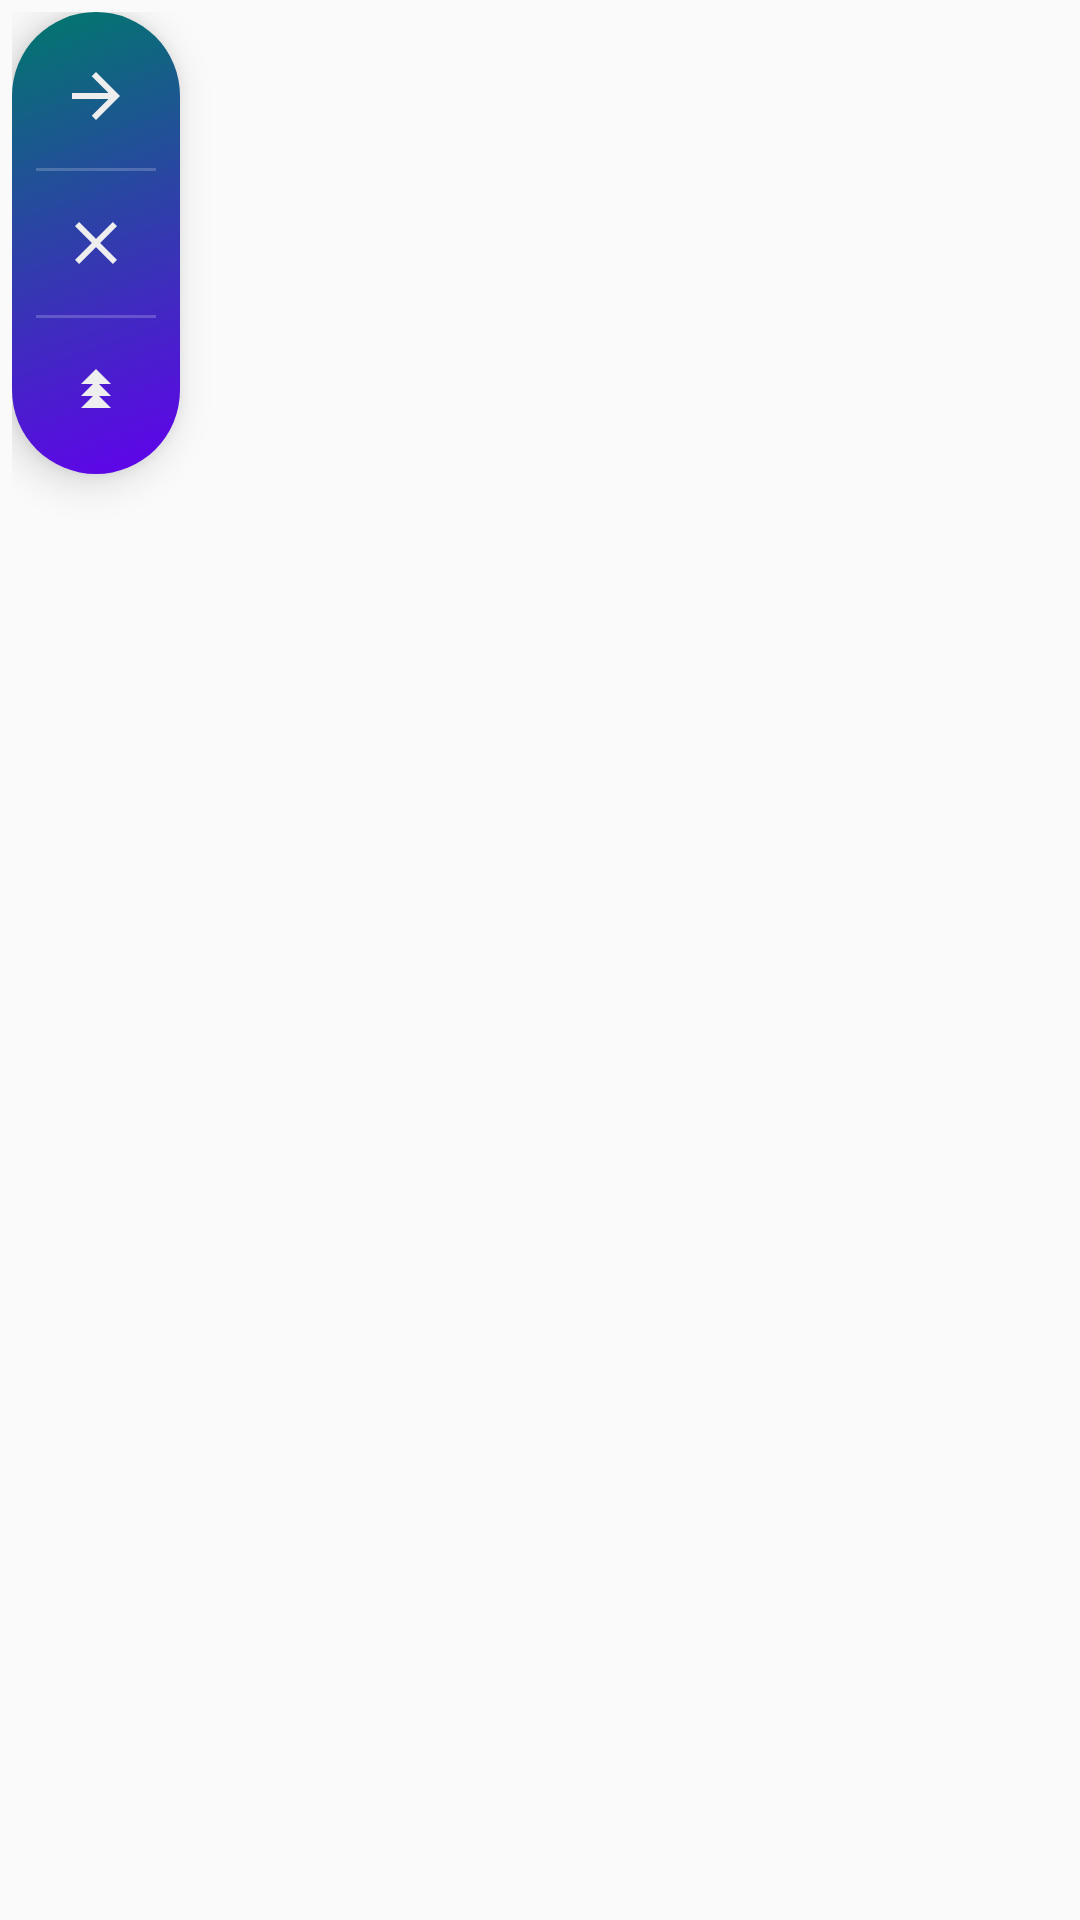

Icon click points for this 1080 x 1920 phone screenshot, format (x,y):
إخفاء القائمة: (96,390)
إغلاق الزر العائم: (96,243)
